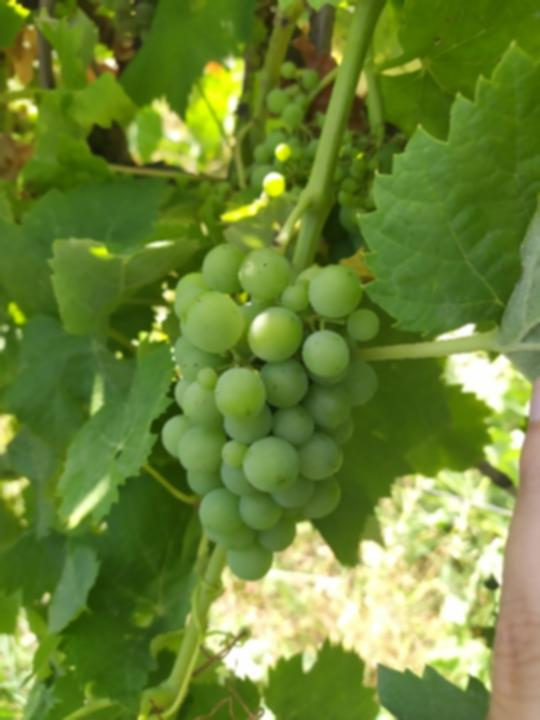grape: (159, 241, 381, 584)
